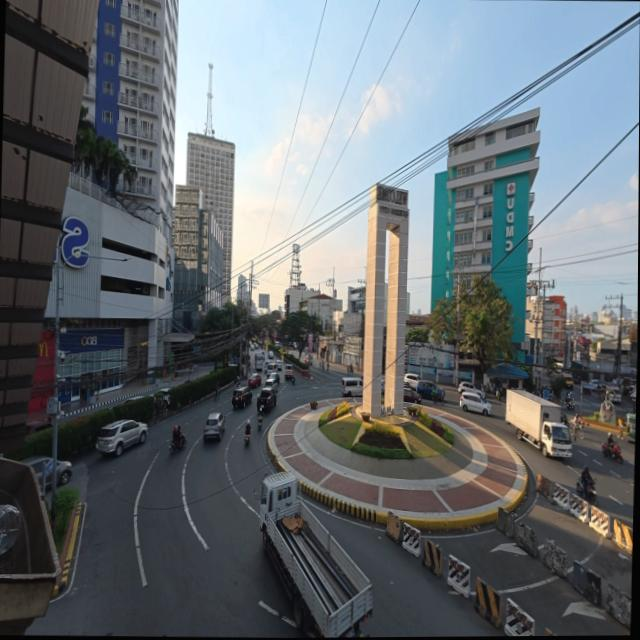bus: (254, 352, 263, 372)
car: (96, 420, 147, 456), (22, 457, 50, 486), (459, 391, 491, 414), (203, 412, 225, 441), (416, 380, 443, 398), (256, 387, 275, 412), (231, 386, 251, 407), (457, 382, 484, 397), (25, 421, 51, 434), (403, 385, 420, 403), (153, 388, 169, 406), (403, 373, 418, 390), (248, 372, 262, 388), (121, 395, 143, 404), (264, 376, 276, 392), (266, 371, 279, 384), (265, 361, 275, 374), (275, 360, 281, 371), (249, 343, 255, 351), (380, 379, 383, 394), (267, 351, 272, 359), (293, 341, 298, 349), (274, 341, 279, 348)
motorcycle: (575, 480, 595, 505), (601, 443, 622, 463), (169, 435, 185, 453), (572, 423, 583, 441), (431, 390, 445, 404), (560, 413, 570, 428), (494, 386, 504, 400), (244, 423, 250, 444), (565, 401, 573, 410), (258, 414, 261, 430), (291, 375, 295, 385)
trucks: (253, 473, 372, 637), (505, 390, 571, 458)
vans: (341, 376, 361, 397), (605, 389, 620, 403), (283, 363, 292, 380)
